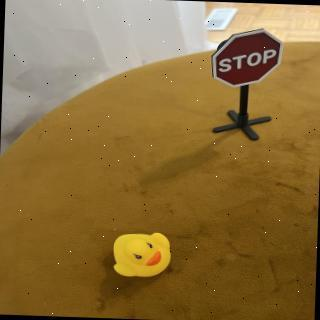duck_regular: (110, 231, 175, 282)
sign_stop: (210, 26, 287, 92)
